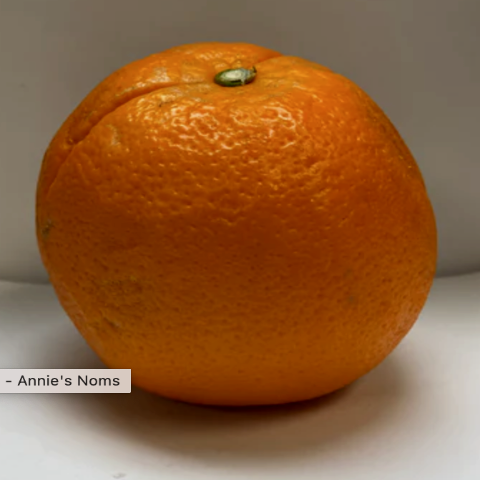orange: (3, 20, 459, 407)
